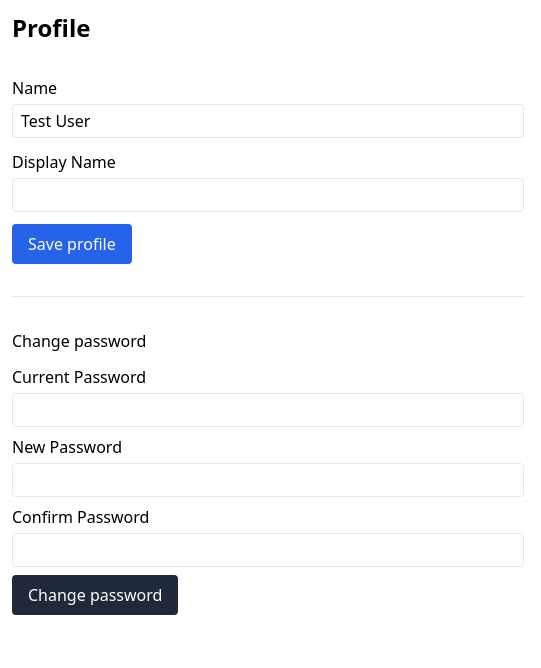
Test: updates profile on submit
Replace the text in the field showing "Test User" with "Updated Name". click: [268, 121]
box: left=12, top=104, right=524, bottom=138
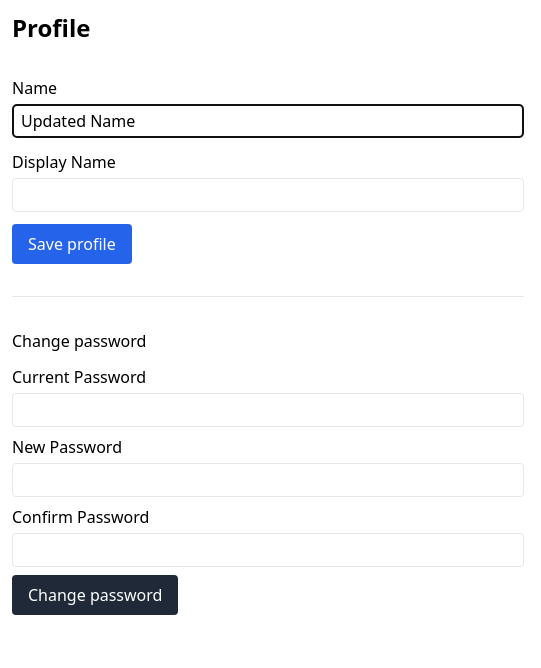
Click the button "Save profile". click: [72, 244]
box: left=12, top=224, right=132, bottom=264
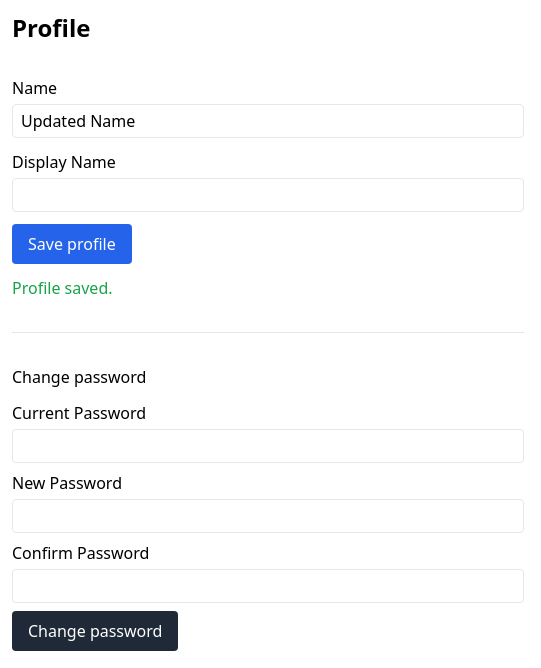
Now the text "Profile saved." is shown, box left=12, top=277, right=112, bottom=299
